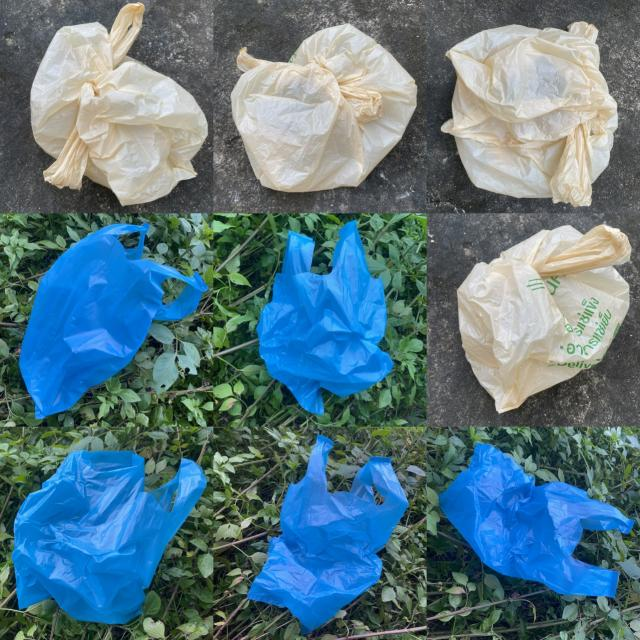Single-layer Plastic: (20, 224, 208, 419), (30, 4, 208, 205), (12, 450, 206, 624), (441, 21, 618, 206), (458, 225, 630, 412), (248, 435, 408, 633), (231, 25, 416, 192), (439, 444, 634, 597), (256, 221, 392, 414)
